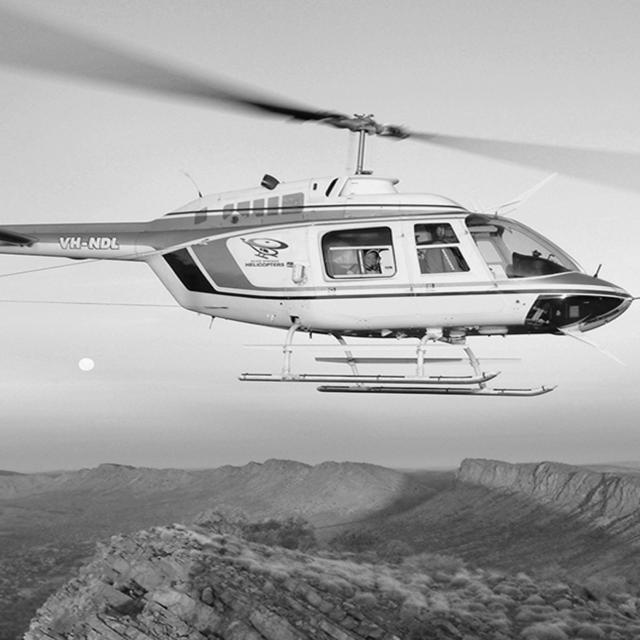helicopter: (1, 6, 640, 395)
